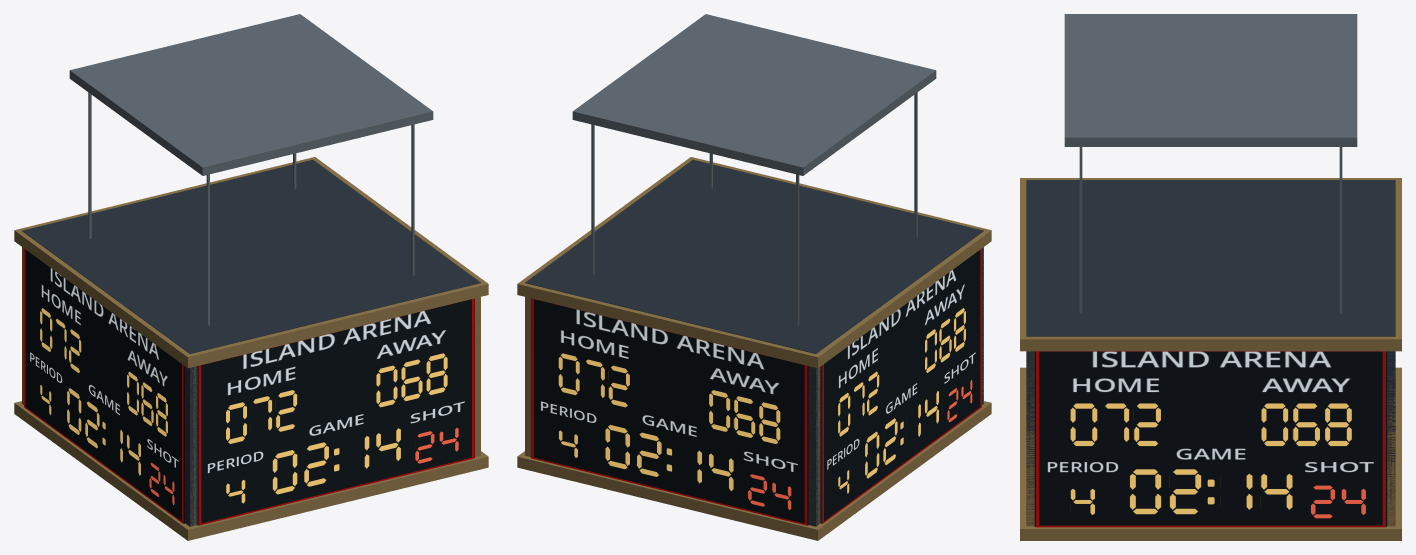
The model's file is scoreboard.glb.
The picture shows the model from 3 angles, left to right: view 1: azimuth 30°, elevation 25°; view 2: azimuth 150°, elevation 25°; view 3: azimuth 270°, elevation 25°; orthographic projection. The views are drawn at different scales.
Visible parts, largest first — view 1: Housing, Screen_front, SuspensionYoke, Screen_left, MetalRimTop, MetalRimBottom, SuspensionCable (×3), label_front_ISLAND_ARENA, CornerPost, label_left_ISLAND_ARENA, lamp_front_left, lamp_front_bottom; view 2: Housing, Screen_back, SuspensionYoke, Screen_left, MetalRimTop, MetalRimBottom, SuspensionCable (×3), CornerPost (×2), label_back_ISLAND_ARENA, label_left_ISLAND_ARENA, lamp_back_right, lamp_back_bottom; view 3: Housing, Screen_right, SuspensionYoke, MetalRimTop, MetalRimBottom, CornerPost (×2), label_right_ISLAND_ARENA, SuspensionCable (×2), lamp_right_bottom, lamp_right_right, lamp_right_left, digit_right_away2 (+8 smaller).
Boxes of the visible parts, x1,y1,x2,y2 form: Housing: [22, 159, 480, 526]; Screen_front: [197, 298, 474, 525]; SuspensionYoke: [69, 14, 433, 175]; Screen_left: [25, 250, 184, 523]; MetalRimTop: [14, 157, 488, 368]; MetalRimBottom: [14, 401, 488, 540]; SuspensionCable (×3): [88, 72, 414, 325]; label_front_ISLAND_ARENA: [243, 311, 430, 368]; CornerPost: [475, 297, 480, 456]; label_left_ISLAND_ARENA: [50, 268, 158, 359]; lamp_front_left: [198, 365, 201, 525]; lamp_front_bottom: [200, 457, 471, 525]; Housing: [525, 159, 983, 526]; Screen_back: [531, 298, 808, 525]; SuspensionYoke: [572, 14, 936, 175]; Screen_left: [821, 250, 980, 523]; MetalRimTop: [517, 157, 991, 368]; MetalRimBottom: [517, 401, 991, 540]; SuspensionCable (×3): [591, 72, 917, 325]; CornerPost (×2): [525, 297, 819, 525]; label_back_ISLAND_ARENA: [576, 309, 764, 369]; label_left_ISLAND_ARENA: [848, 270, 956, 359]; lamp_back_right: [804, 365, 807, 525]; lamp_back_bottom: [534, 457, 805, 525]; Housing: [1026, 180, 1395, 526]; Screen_right: [1035, 351, 1386, 526]; SuspensionYoke: [1064, 14, 1357, 146]; MetalRimTop: [1020, 178, 1401, 351]; MetalRimBottom: [1020, 367, 1401, 540]; CornerPost (×2): [1026, 351, 1395, 526]; label_right_ISLAND_ARENA: [1092, 351, 1330, 367]; SuspensionCable (×2): [1079, 130, 1342, 313]; lamp_right_bottom: [1038, 525, 1383, 527]; lamp_right_right: [1382, 351, 1385, 527]; lamp_right_left: [1036, 351, 1039, 527]; digit_right_away2: [1325, 403, 1351, 446].
Bounding box in the file's own units: 3.72 × 4.14 × 3.72.
Materials: 8 (3 with a texture image).
